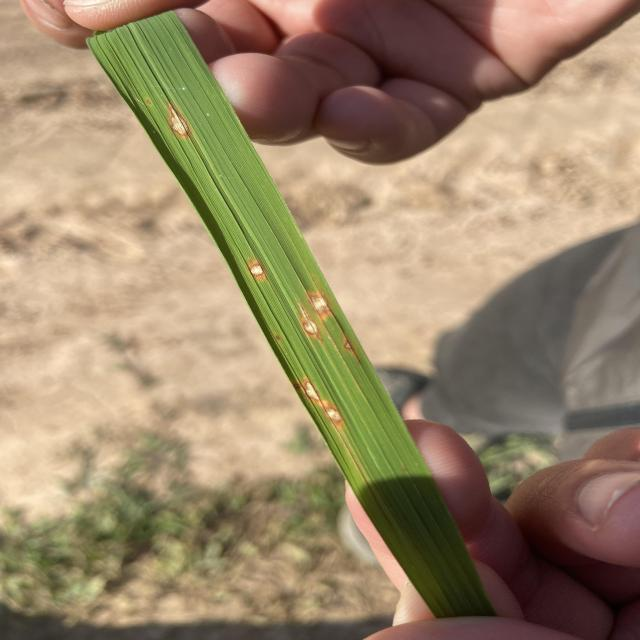Dao on: (168, 103, 189, 136), (299, 303, 319, 337), (308, 292, 331, 319), (322, 401, 343, 425), (304, 379, 320, 401), (249, 258, 264, 279), (344, 335, 354, 353), (293, 382, 301, 390), (147, 99, 151, 104)
